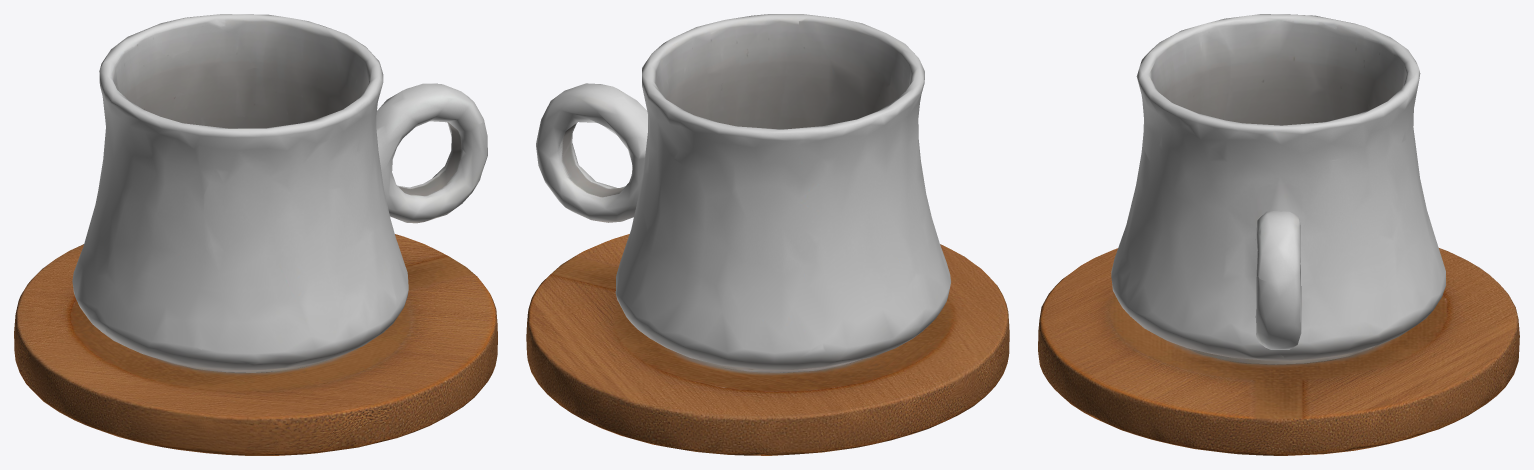
The model's file is peca-demonstracao.fbx.
3 renders of one model, left to right at view 1: azimuth 30°, elevation 25°; view 2: azimuth 150°, elevation 25°; view 3: azimuth 270°, elevation 25°, orthographic. The views are drawn at different scales.
Visible parts, largest first — view 1: tripo_node_2d387223; view 2: tripo_node_2d387223; view 3: tripo_node_2d387223.
Boxes of the visible parts, box(x1,y1,x2,y2) form: tripo_node_2d387223: box(14, 14, 497, 455); tripo_node_2d387223: box(526, 14, 1009, 455); tripo_node_2d387223: box(1038, 14, 1519, 455).
Bounding box in the file's own units: 1 × 0.6235 × 0.9729.
Materials: 1 (1 with a texture image).
